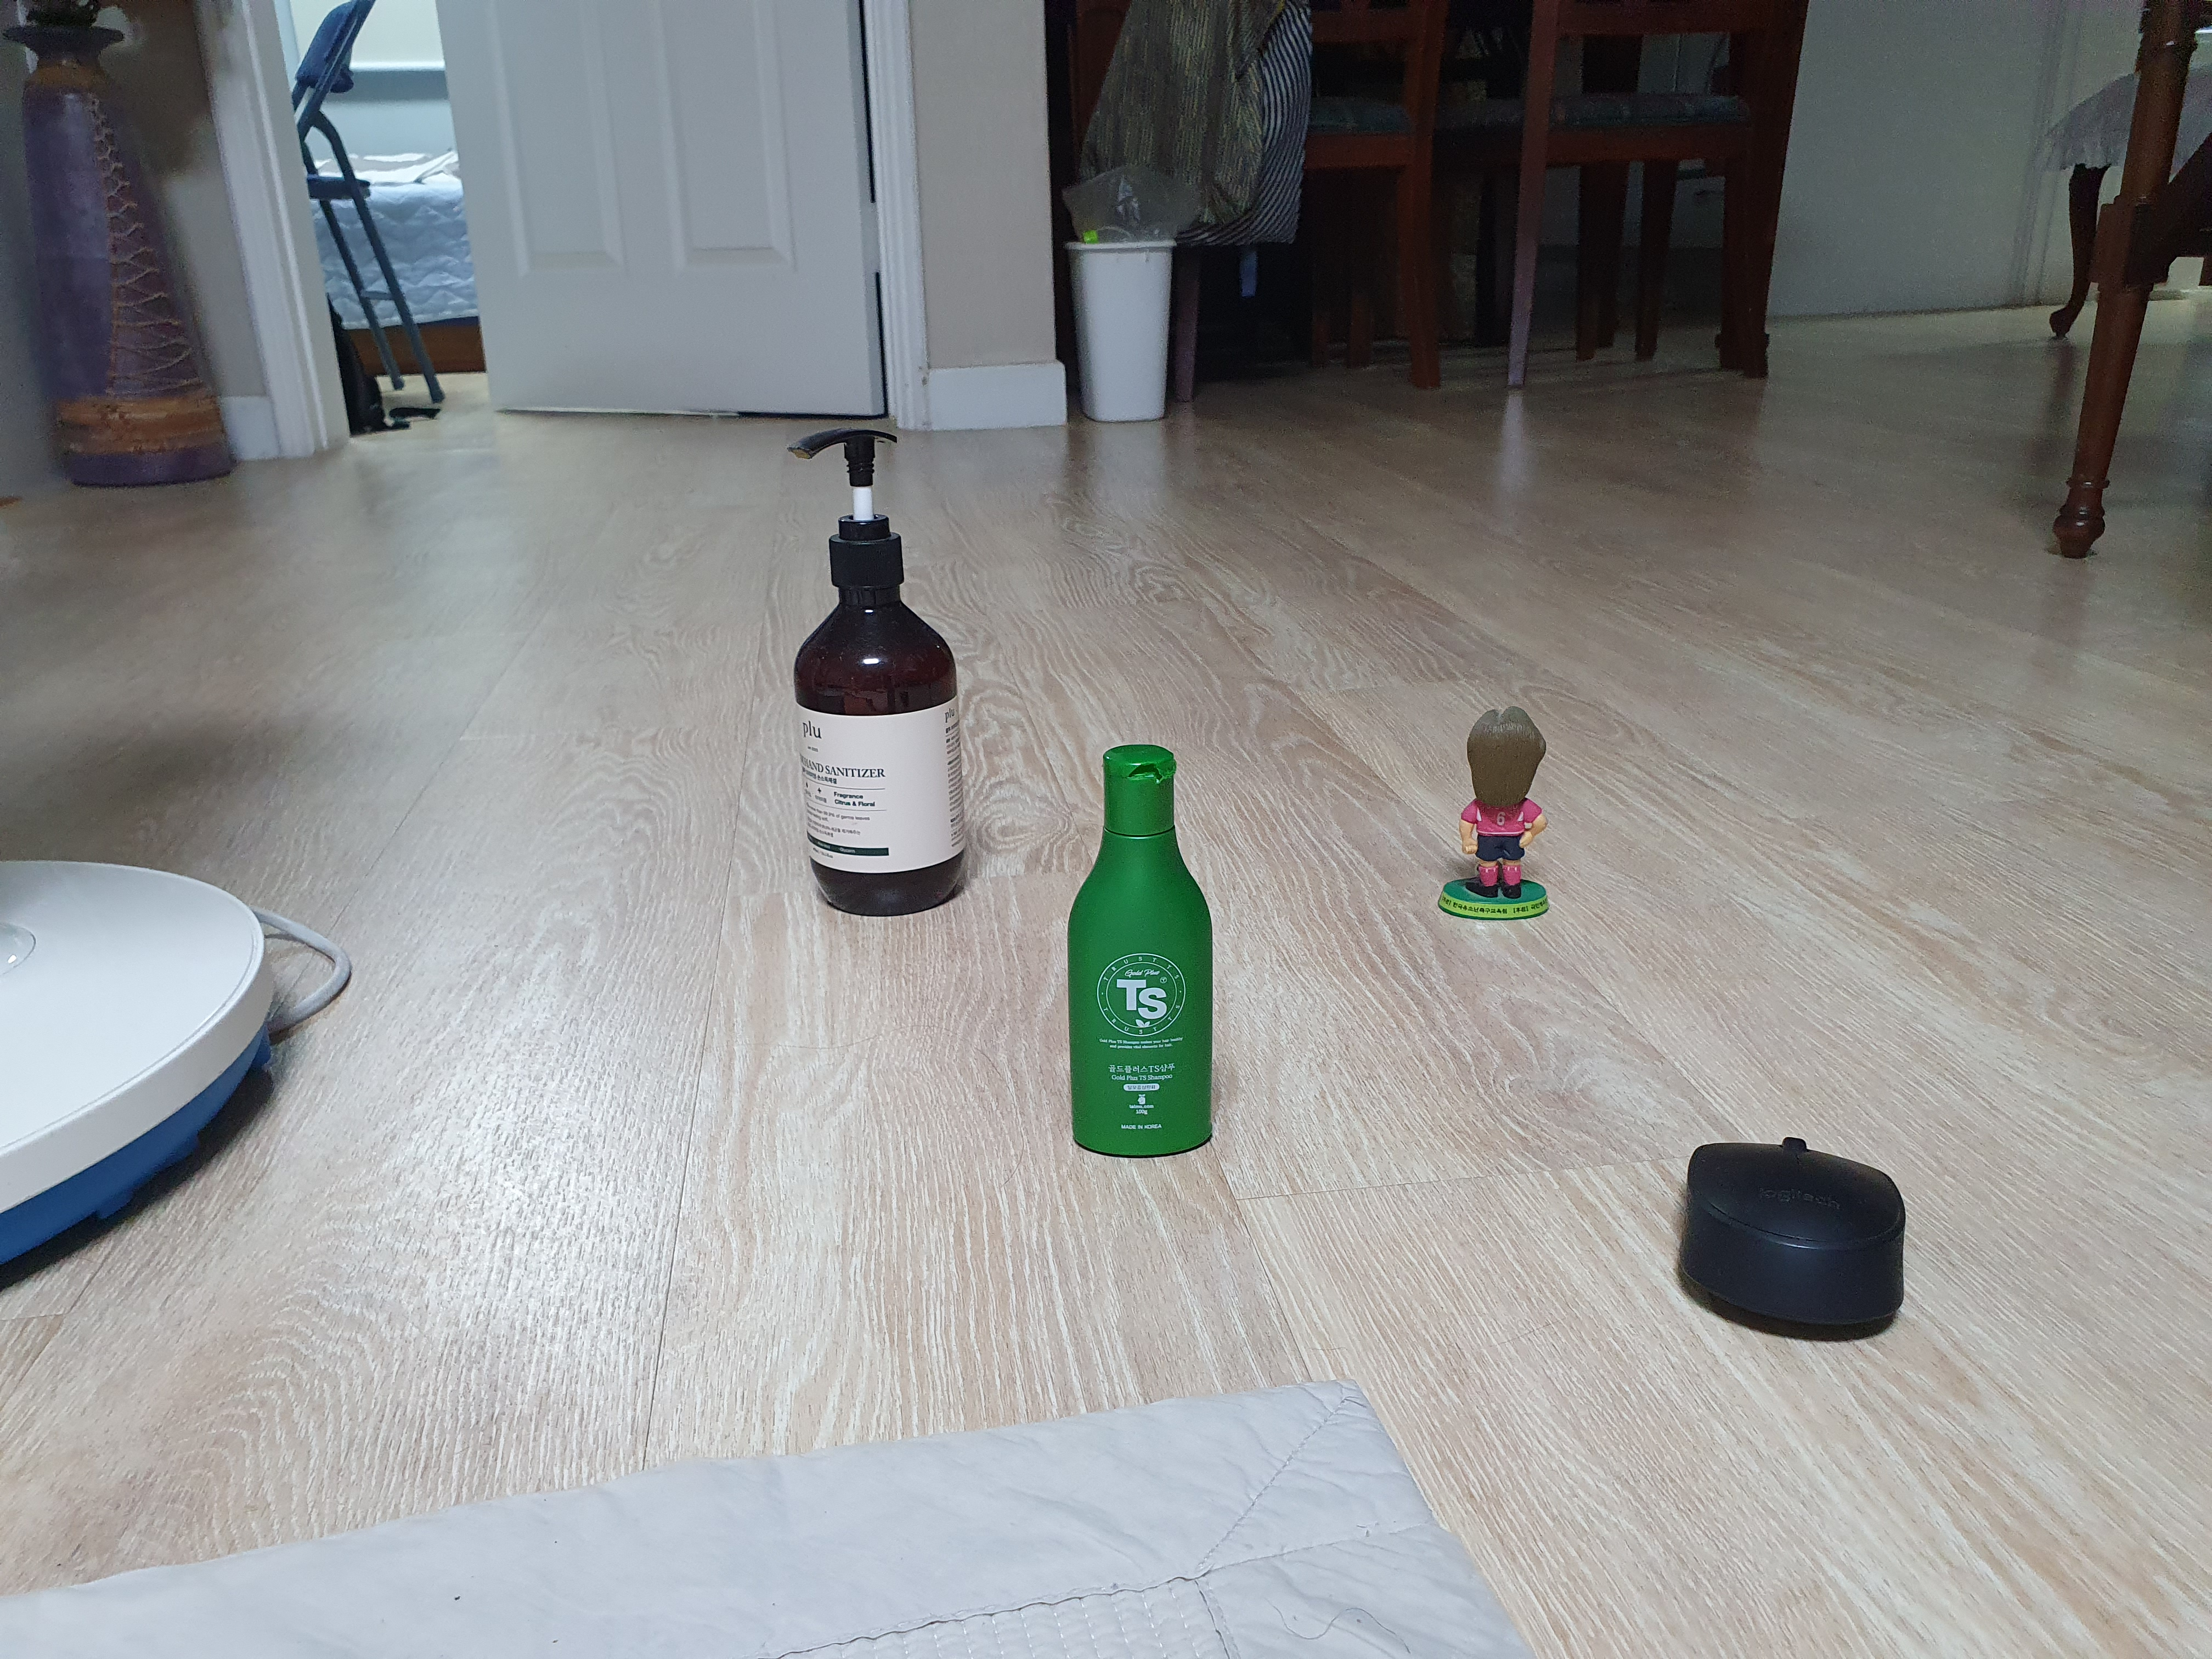bottle: (740, 394, 1017, 924)
mouse: (1641, 1098, 1949, 1337)
shampoo: (1049, 744, 1270, 1185)
yoo: (1418, 687, 1604, 948)
